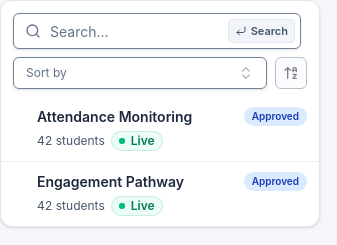
WorkflowList › filters workflows by name on the client
Expected: the row "Attendance Monitoring Approved 42 students Live" is shown, [1, 97, 319, 162]
Expected: the row "Engagement Pathway Approved 42 students Live" is shown, [1, 162, 319, 226]
Step 1. Type "Attendance" into the search field → (157,31), box [13, 13, 301, 49]
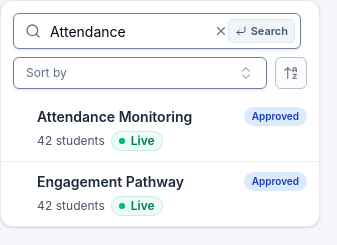
Step 2. Click the button "Search" → (261,31), box [228, 19, 295, 43]
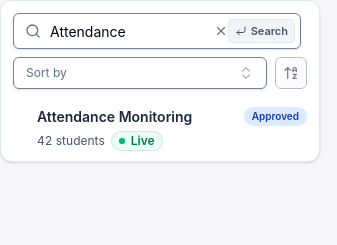
Now the text "Engagement Pathway" is gone
